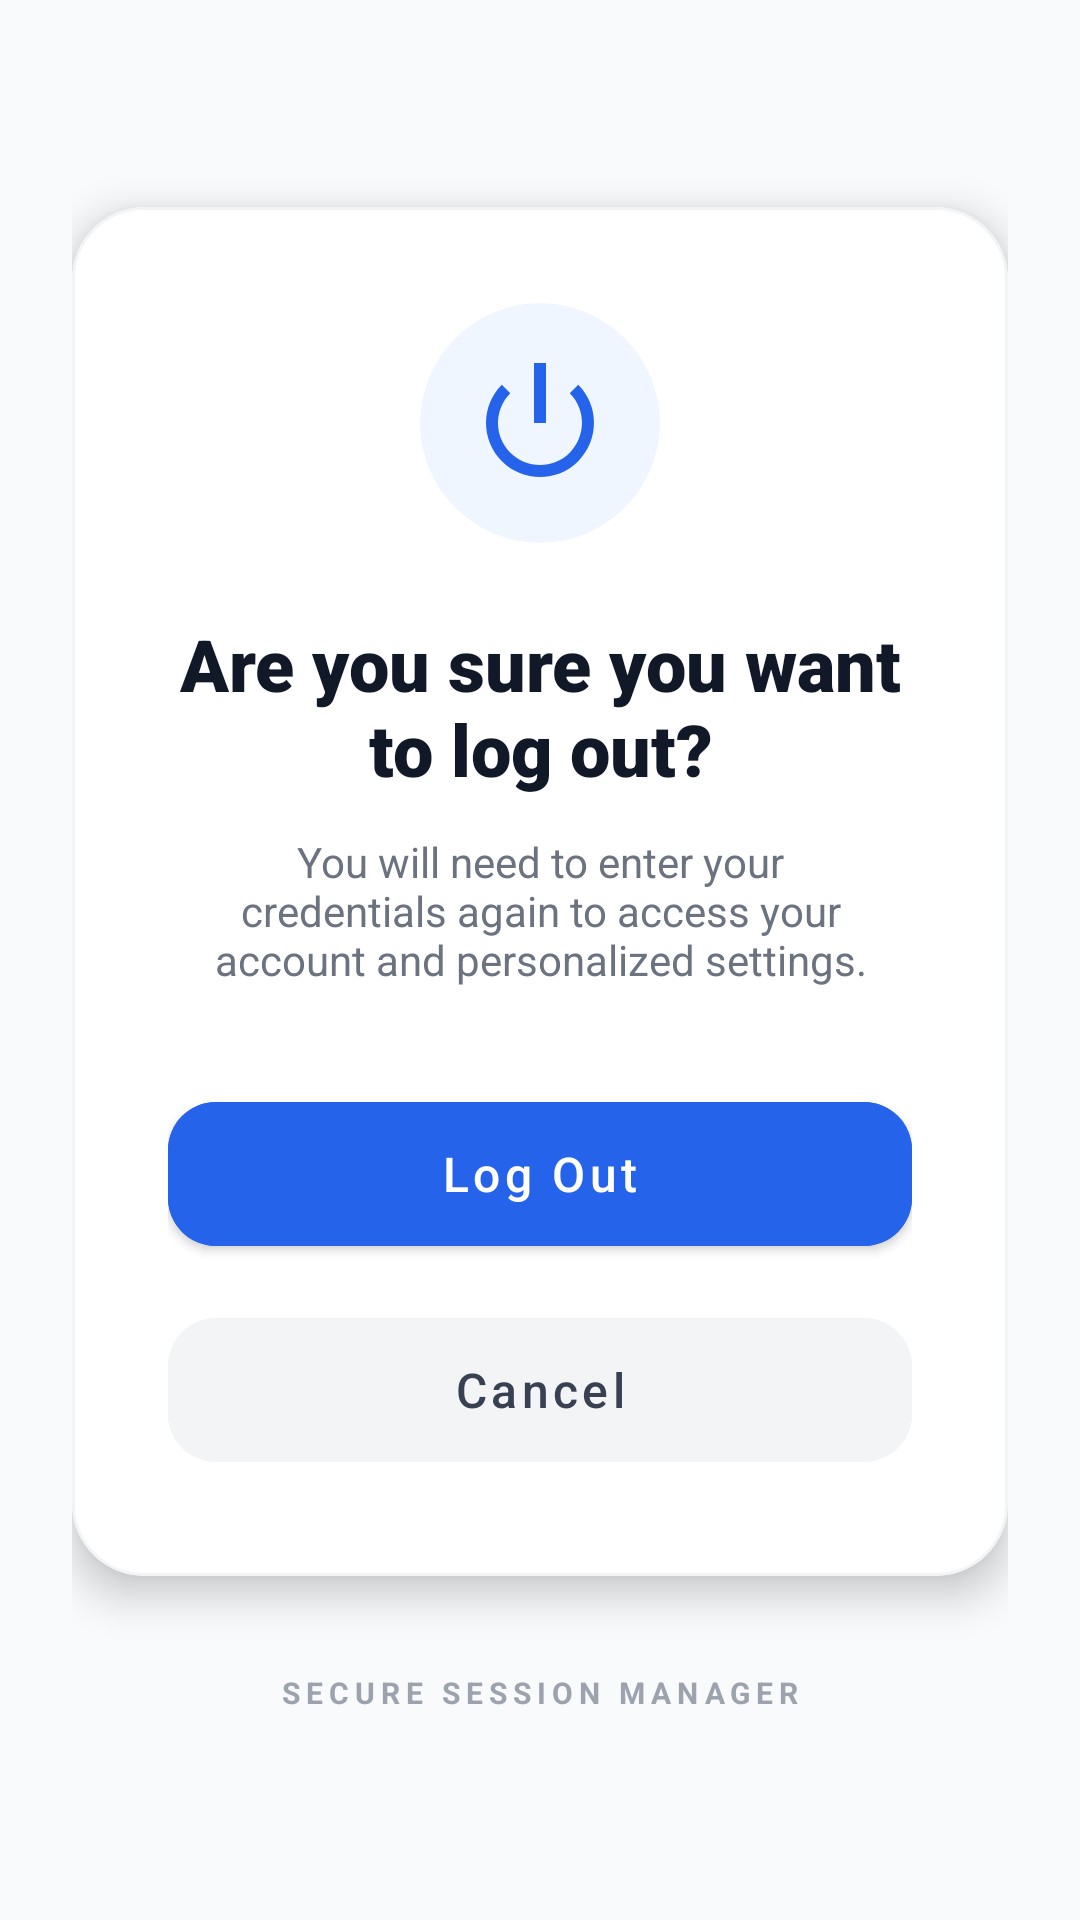

Where icons sit on this 1080px x 1920px app screen, as [x1=x1, y1=y1, x2=x2, y2=y2]:
lock power off: [x1=486, y1=363, x2=594, y2=477]
